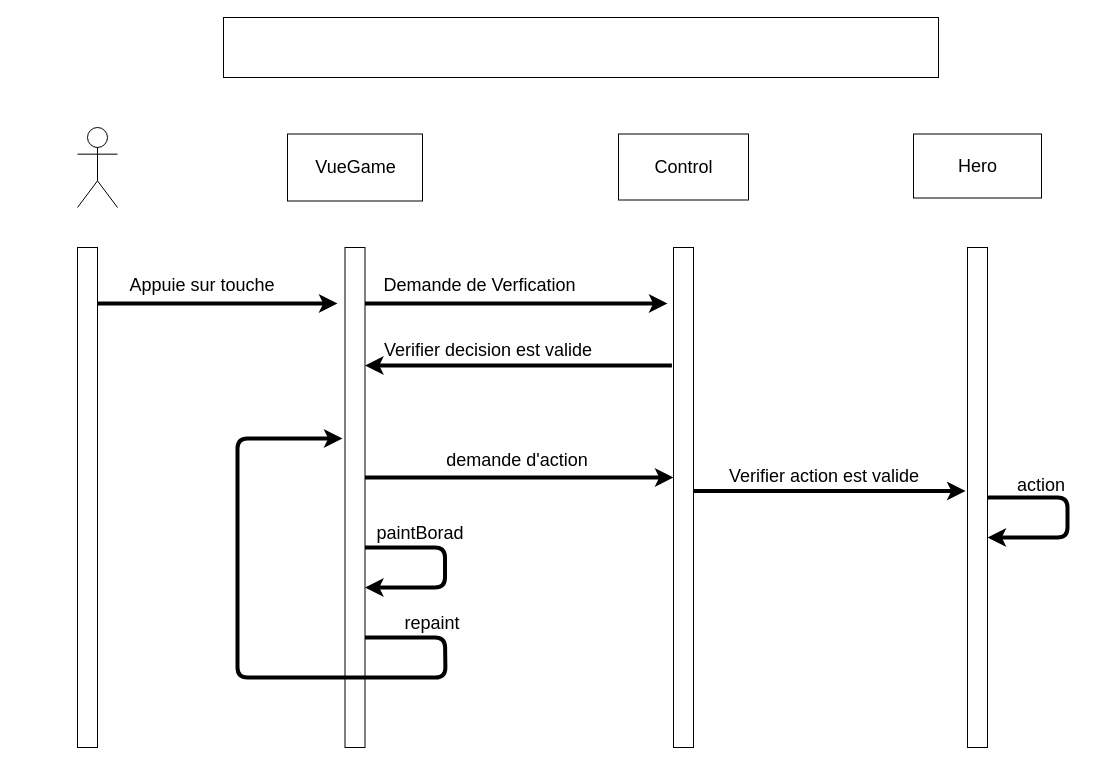
Image size: 1113x765. Some labels were removed from this diagram. The centre of each missing label's shape, as x and y in pixels:
Diagramme Séquentiel Game V1.0: point (580, 47)
User / Player: point (97, 167)
